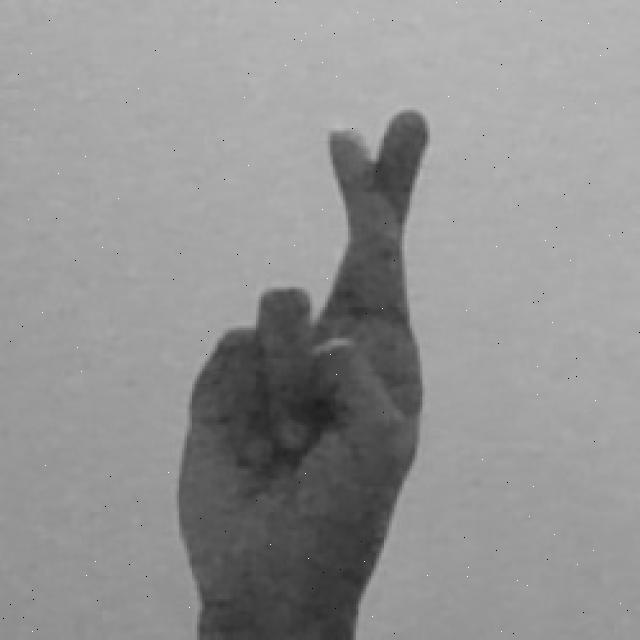R: (169, 102, 430, 640)
